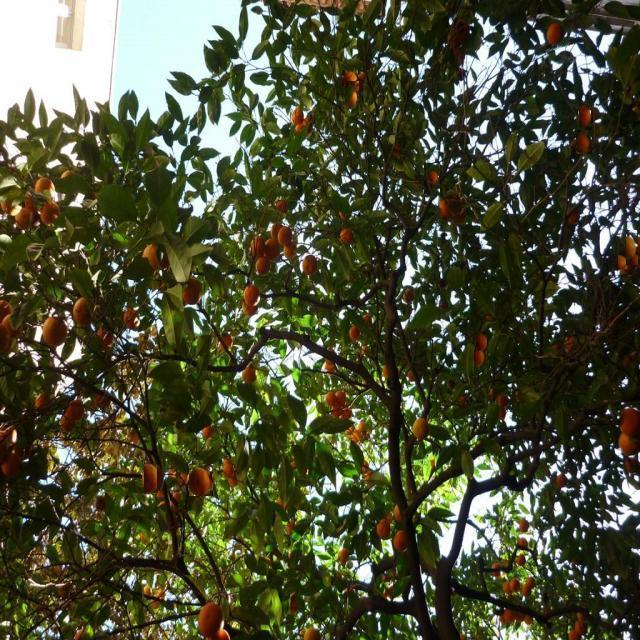Orange: (432, 189, 459, 222), (189, 464, 213, 496), (136, 238, 160, 268), (199, 594, 217, 634), (70, 296, 93, 326), (424, 163, 440, 196), (40, 316, 63, 338), (346, 81, 360, 117), (618, 414, 630, 454), (248, 226, 261, 262), (32, 177, 52, 200), (626, 230, 638, 265), (144, 464, 157, 494), (342, 70, 358, 94), (576, 130, 592, 154), (415, 418, 428, 444), (474, 348, 487, 374), (543, 21, 559, 41), (579, 103, 591, 127), (476, 331, 487, 351), (222, 451, 230, 478), (211, 622, 226, 636), (618, 252, 628, 269)
